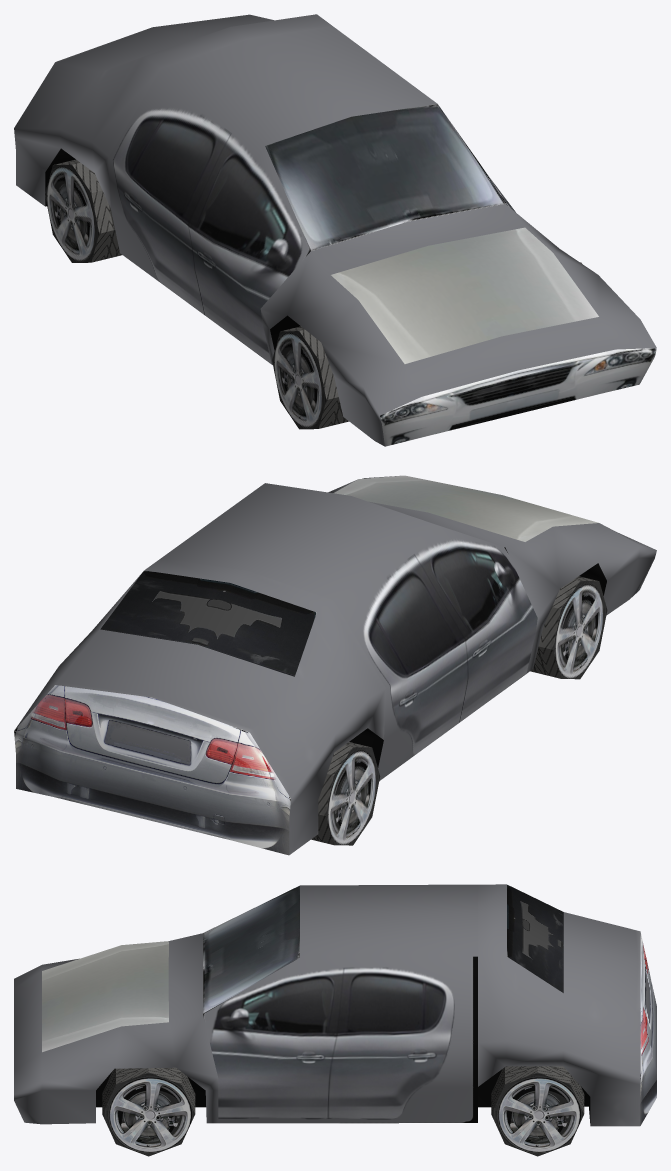
File: SurroundingEnvironment_CarVehicle.fbx
3 views of the same model, one above another, from view 1: azimuth 30°, elevation 25°; view 2: azimuth 150°, elevation 25°; view 3: azimuth 270°, elevation 25° (orthographic). The views are drawn at different scales.
Visible parts, largest first — view 1: SurroundingEnvironment_CarWheel:CarVehicle1; view 2: SurroundingEnvironment_CarWheel:CarVehicle1; view 3: SurroundingEnvironment_CarWheel:CarVehicle1.
Part boxes in pixels (x1,y1,x2,y2): SurroundingEnvironment_CarWheel:CarVehicle1: [14, 14, 656, 446]; SurroundingEnvironment_CarWheel:CarVehicle1: [14, 475, 656, 855]; SurroundingEnvironment_CarWheel:CarVehicle1: [14, 884, 656, 1156].
Size of the model in its own units: 244 by 178 by 562.
